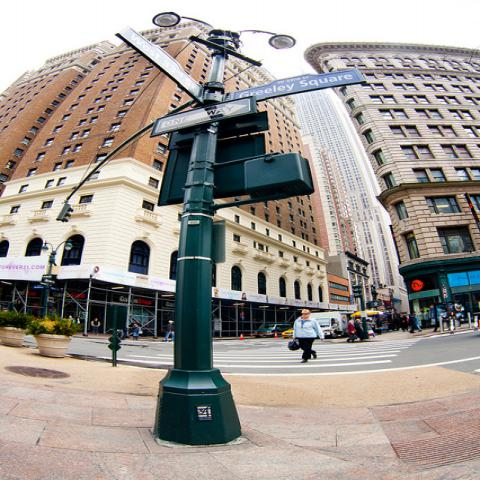car: (254, 324, 292, 338), (282, 328, 293, 337)
truck: (311, 311, 352, 338)
